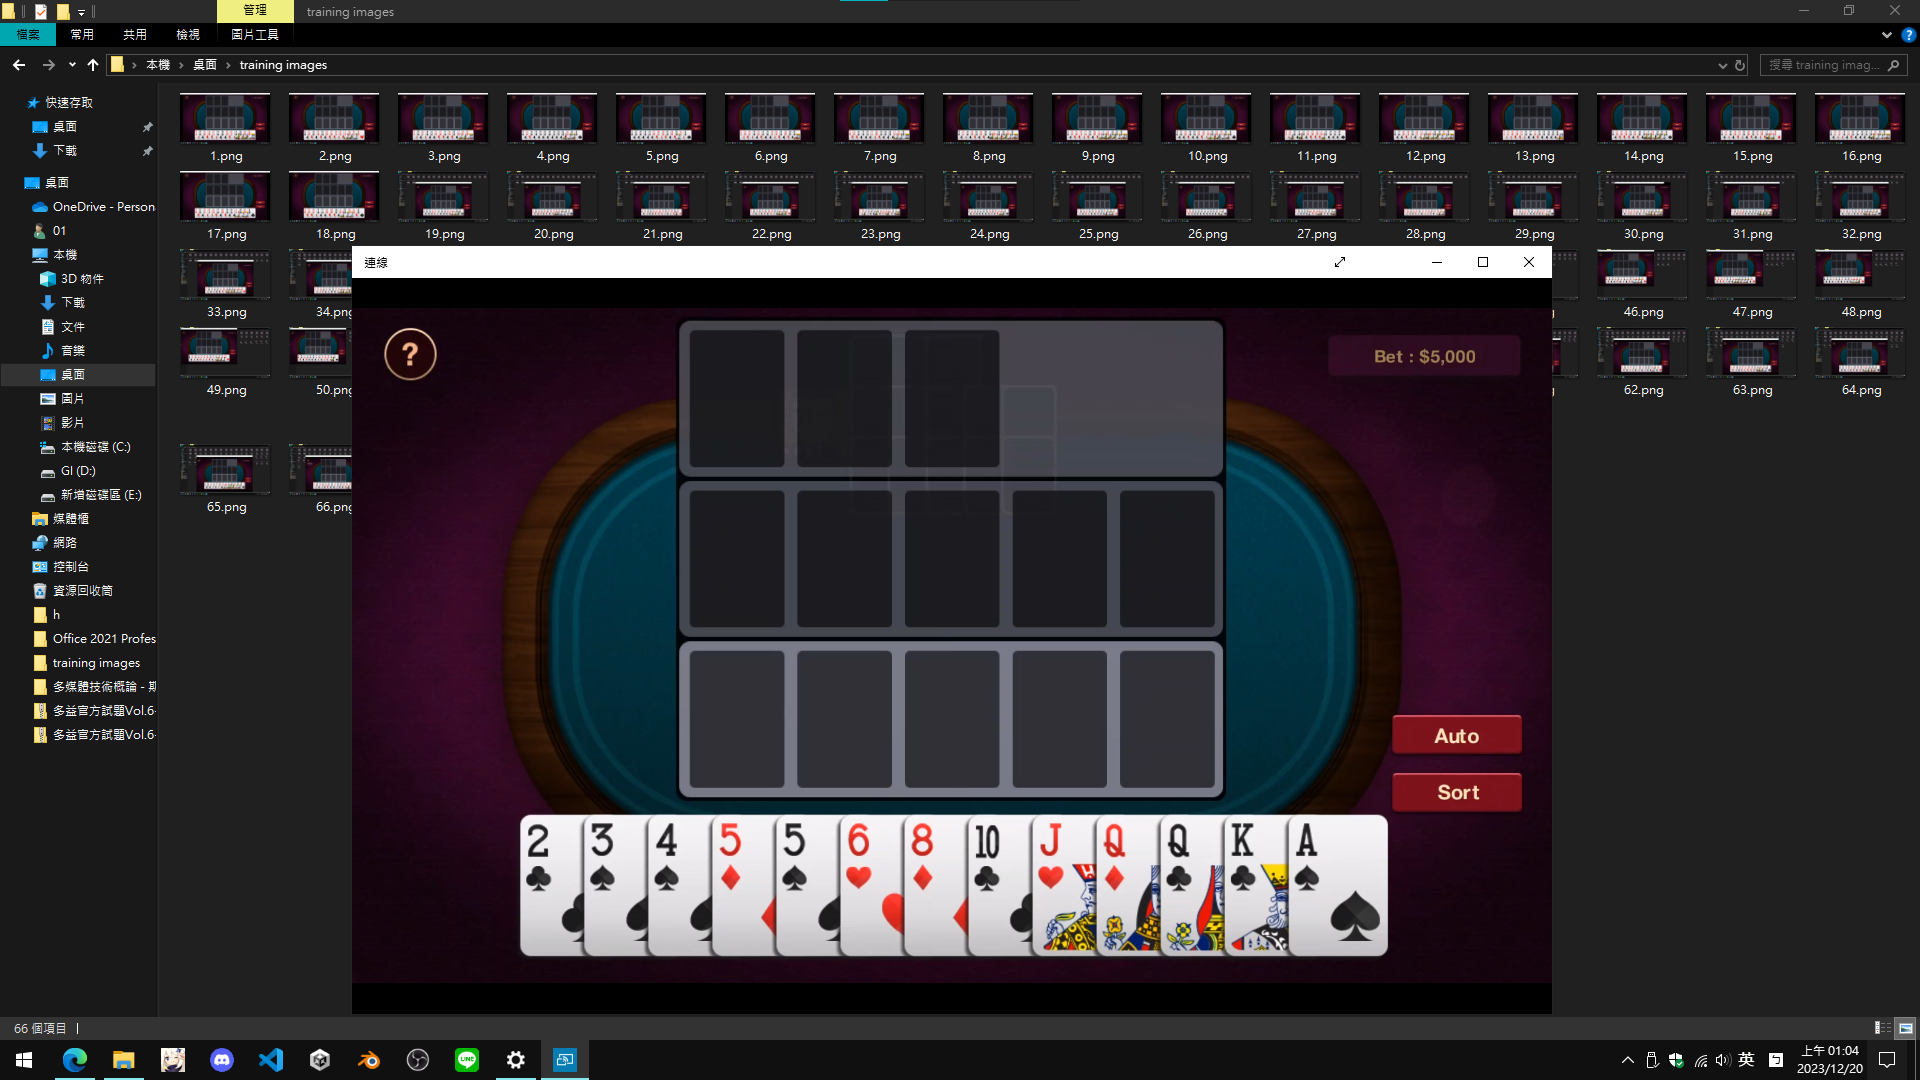10C: (971, 820, 1002, 893)
2C: (524, 820, 555, 895)
3S: (587, 820, 618, 895)
4S: (651, 820, 682, 894)
5D: (716, 822, 744, 890)
5S: (781, 819, 808, 895)
6H: (844, 822, 876, 891)
8D: (907, 819, 936, 891)
AS: (1292, 819, 1321, 894)
JH: (1036, 820, 1065, 893)
KC: (1228, 819, 1258, 893)
QC: (1166, 820, 1193, 895)
QD: (1100, 822, 1126, 891)
